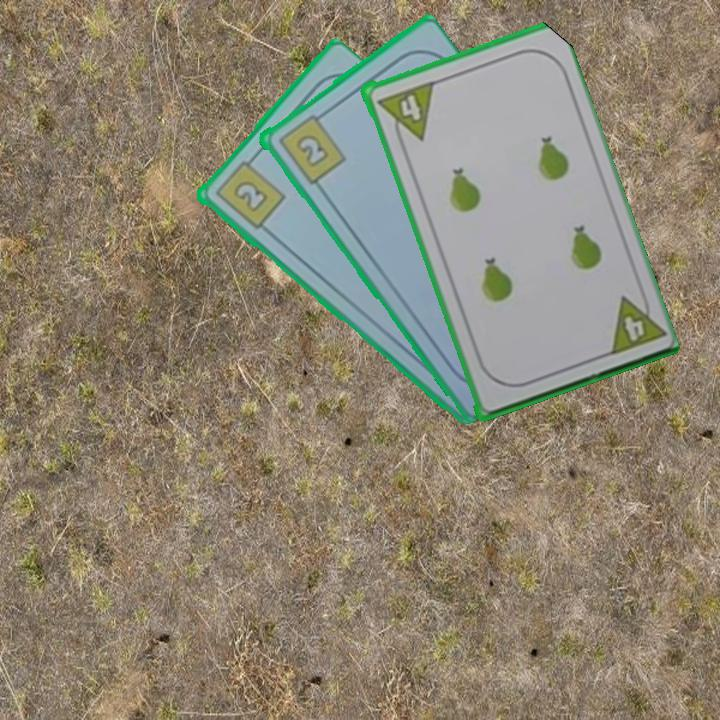2b: (210, 152, 287, 232), (274, 108, 348, 187)
4p: (602, 285, 666, 358), (372, 78, 436, 148)
